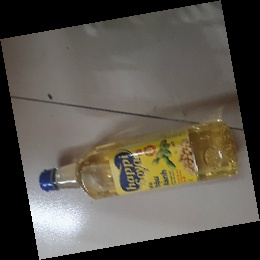Happy Soya: (37, 120, 238, 201)
